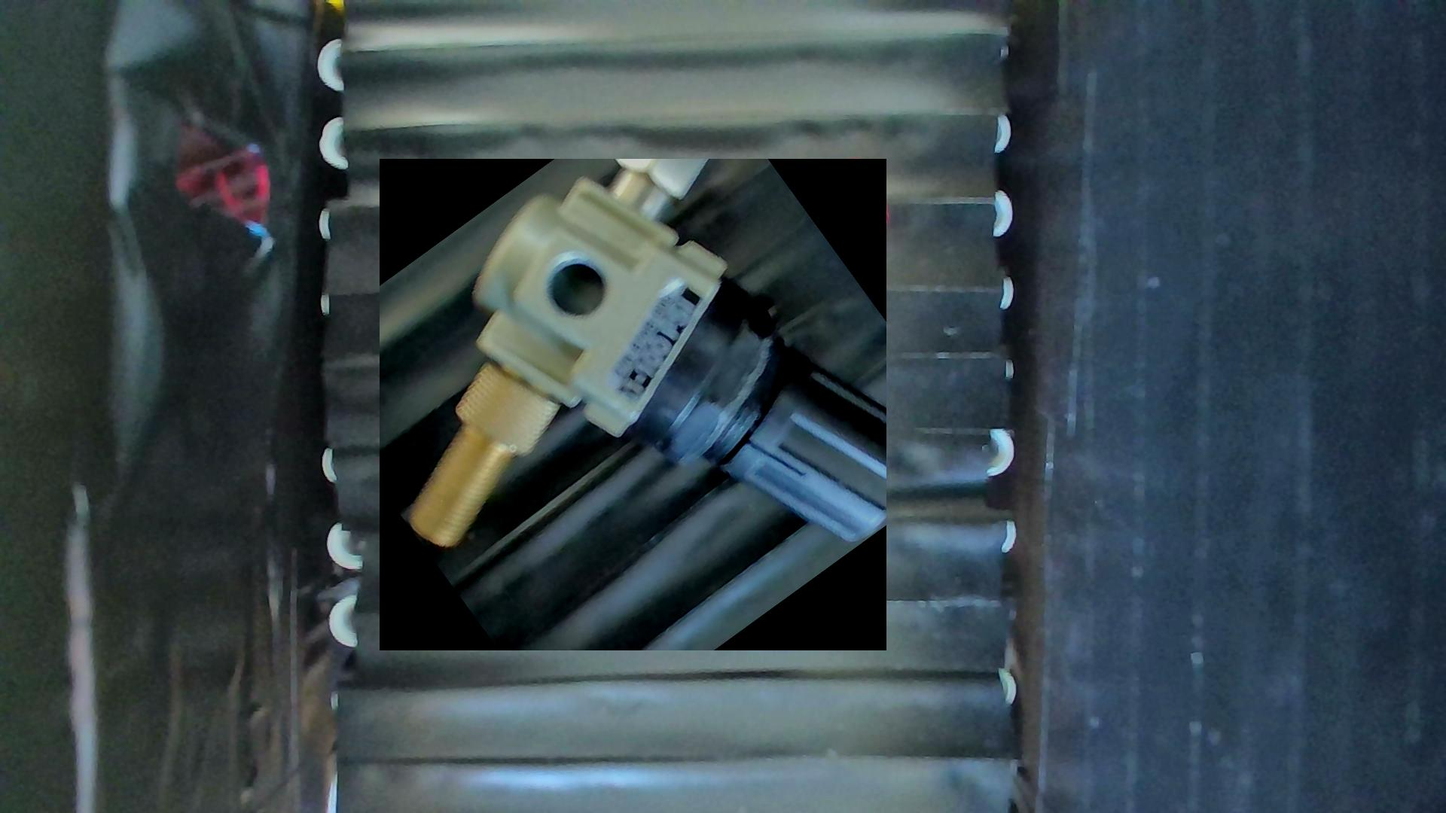regulator: (380, 159, 886, 650)
